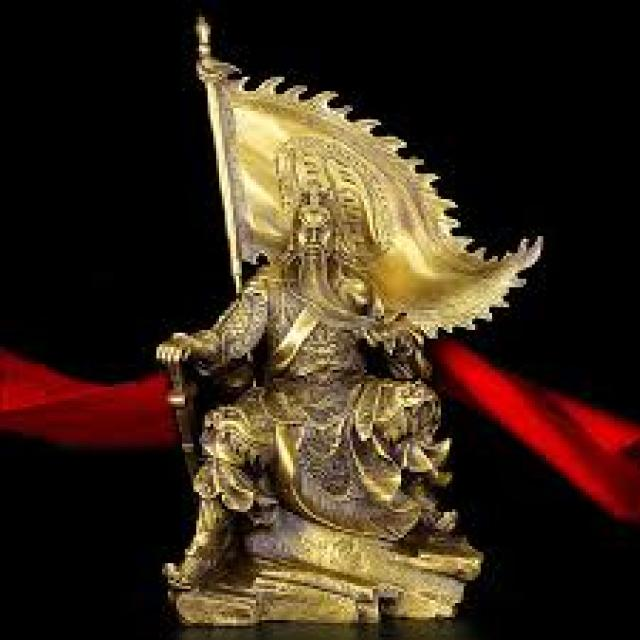Guan Yu: (190, 137, 423, 537)
